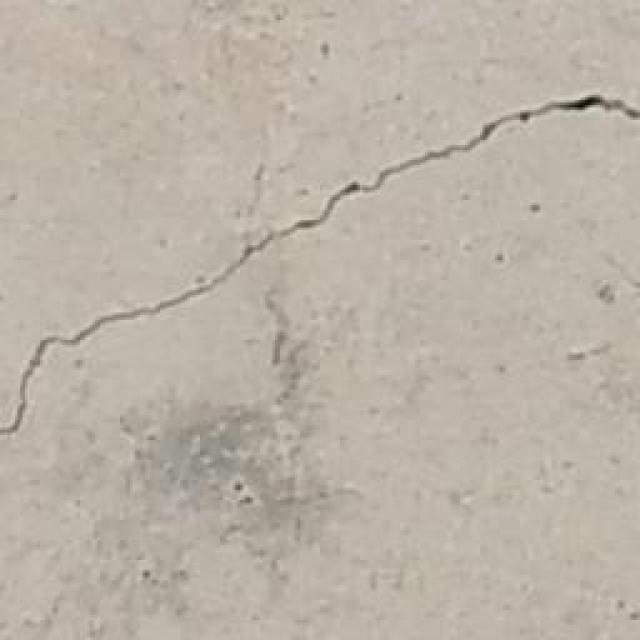concrete-crack: (0, 95, 640, 438)
